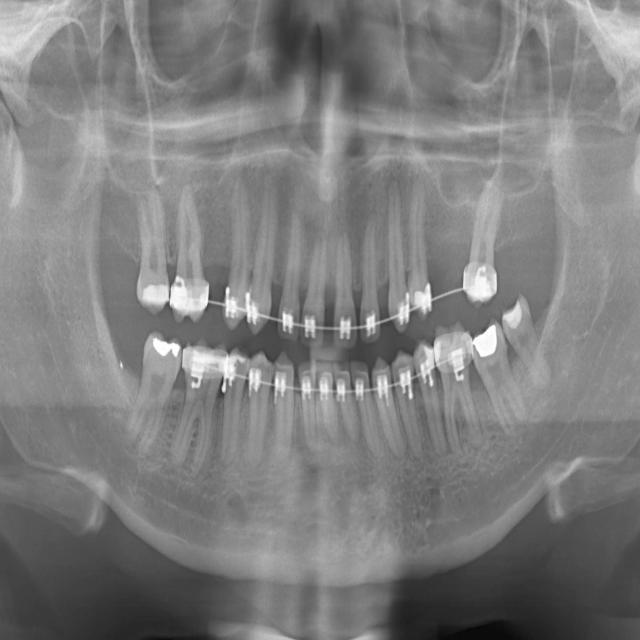AGS Medikal Implant: (467, 325, 538, 435)
AMerOss Implant: (436, 332, 485, 448)
Amalgam filling: (127, 183, 169, 319)
Anthogyr Implant: (412, 343, 446, 453)
Bicon Implant: (388, 353, 433, 464)
BioHorizons Implant: (372, 364, 398, 450)
BioLife Implant: (352, 364, 385, 461)
Biomet 3i Implant: (334, 361, 361, 447)
Blue Sky Bio Implant: (319, 372, 337, 443)
Camlog Implant: (298, 362, 321, 449)
Caries: (358, 224, 386, 344)
Composite filling: (274, 358, 292, 460)
Cowellmedi Implant: (245, 351, 272, 460)
Crown: (215, 352, 247, 455)
DENTSPLY Implant: (162, 182, 208, 318)
Dentatus Implant: (175, 348, 227, 469)
Dentis Implant: (123, 333, 186, 453)
Filling: (220, 187, 253, 331)
Frontier Implant: (245, 179, 284, 334)
Hiossen Implant: (381, 188, 412, 335)
Implant: (301, 226, 332, 345)
Implant Direct: (274, 206, 312, 341)
Keystone Dental Implant: (328, 240, 360, 352)
MIS Implant: (406, 173, 432, 314)
Megagen Implant: (457, 170, 527, 308)
Neoss Implant: (493, 297, 556, 395)
